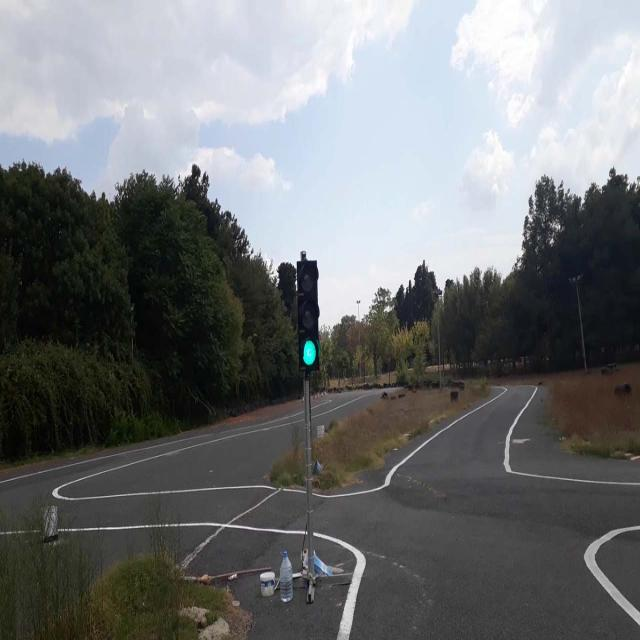yesil: (297, 259, 321, 373)
